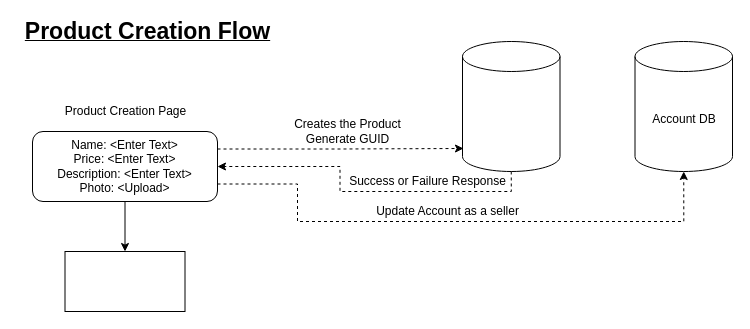
This 750x329 diagram has some shape labels left out. Each missing label, with the centre of its shape:
Product DB: the point at 511,106
Product Page: the point at 124,281
